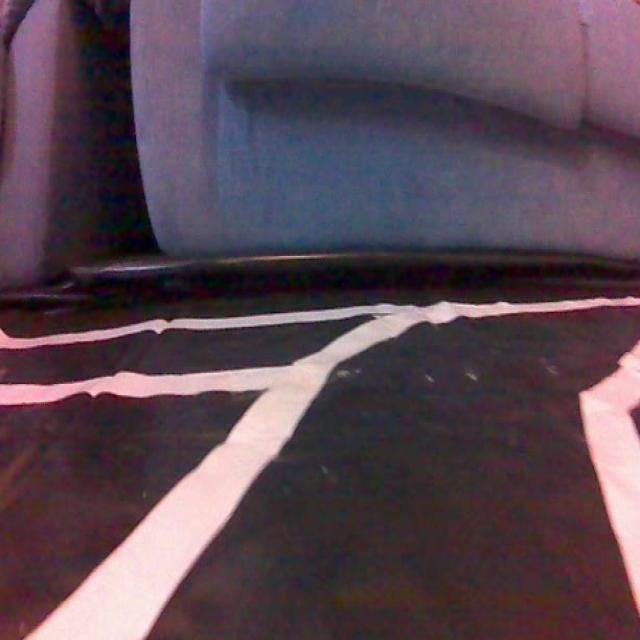LineaCarril: (0, 297, 640, 640), (579, 340, 640, 619)
